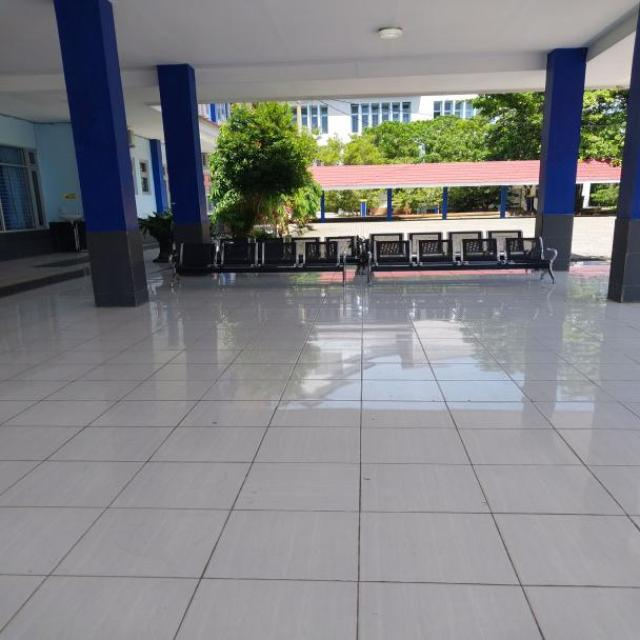chair ahead at: (304, 237, 342, 277), (378, 240, 411, 274)
pillar ahead at: (51, 0, 156, 311)
